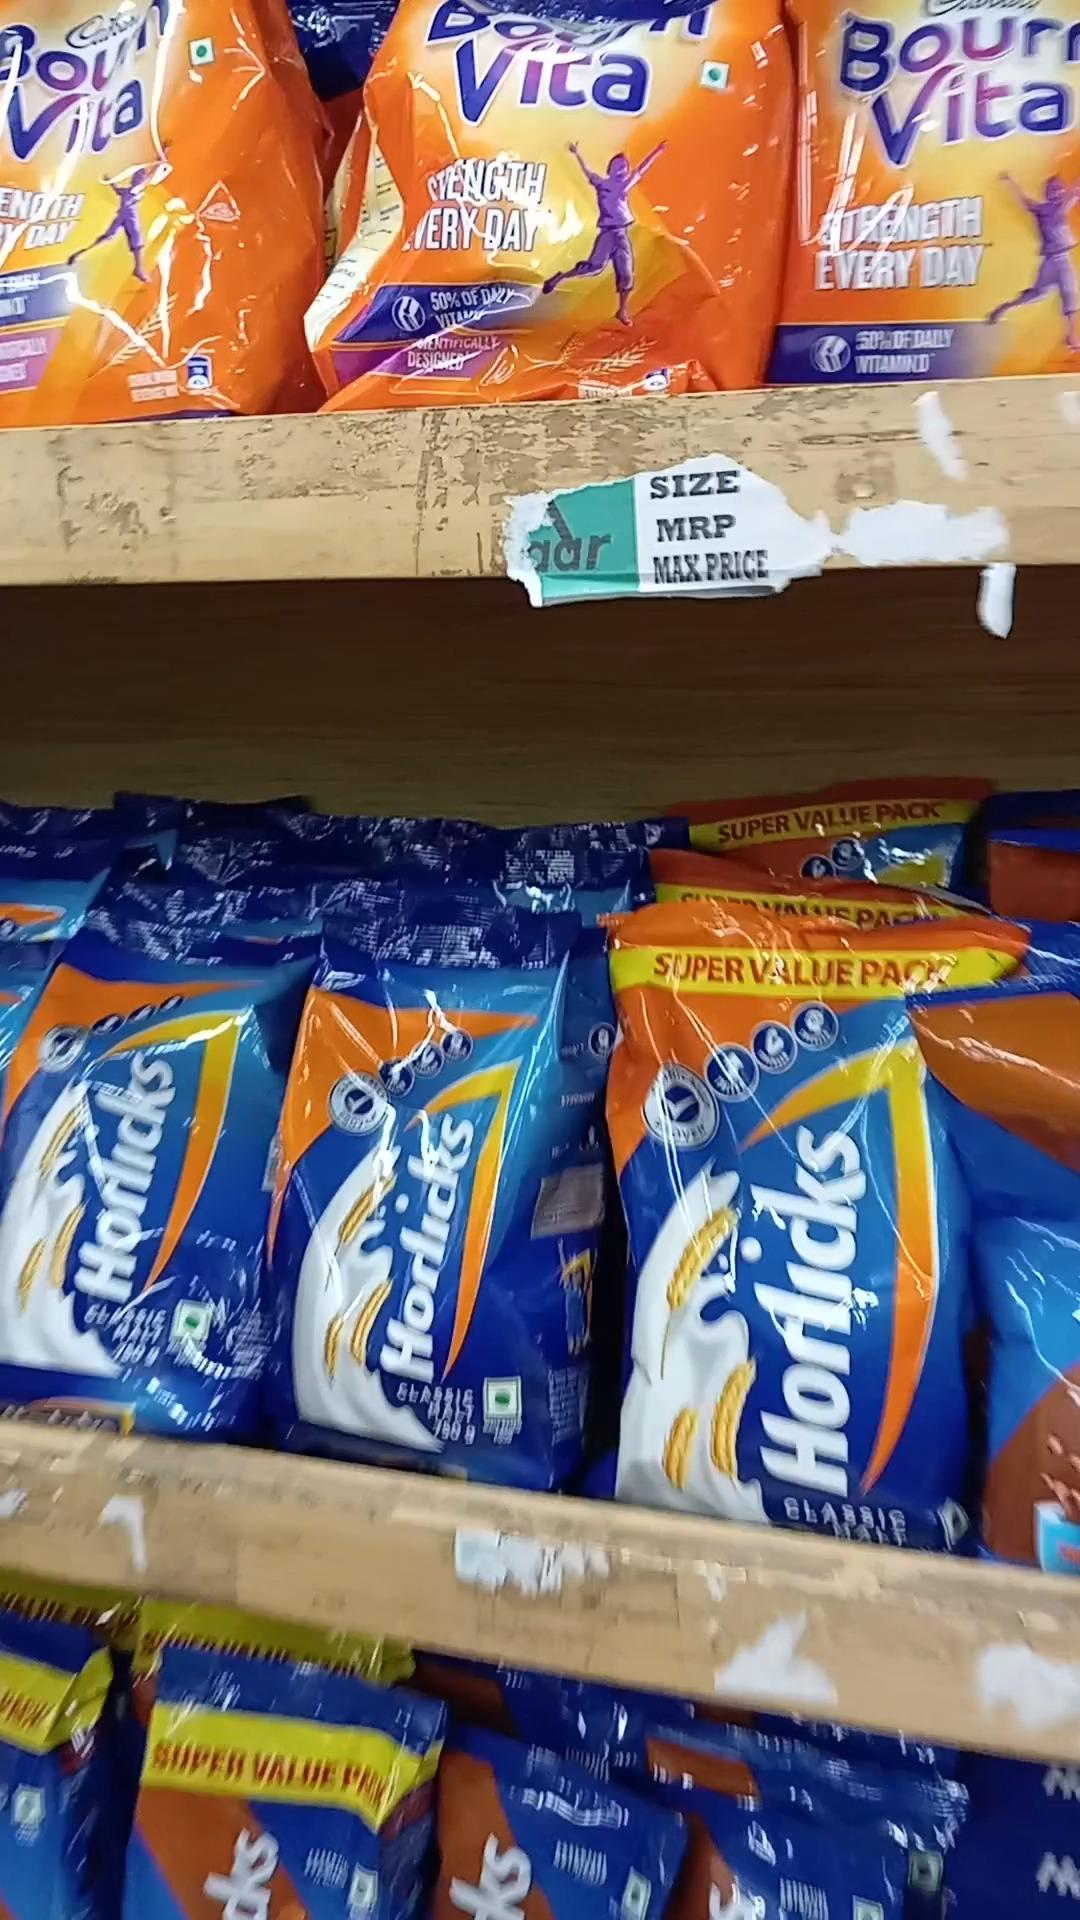HORLICK_CLASSIC_MALT_750_G_POUCH: (285, 924, 562, 1469), (0, 911, 252, 1443)
